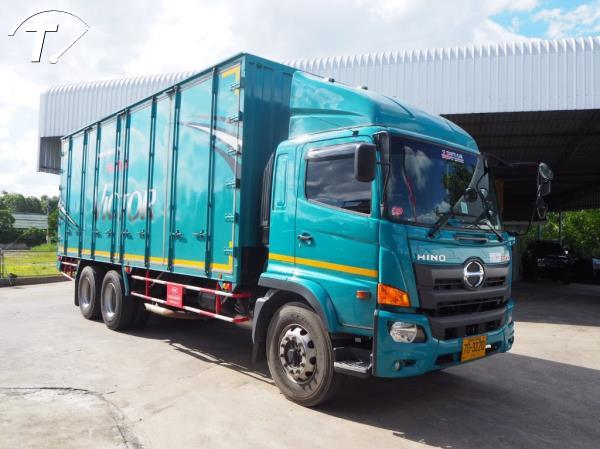truck: (52, 53, 517, 407)
